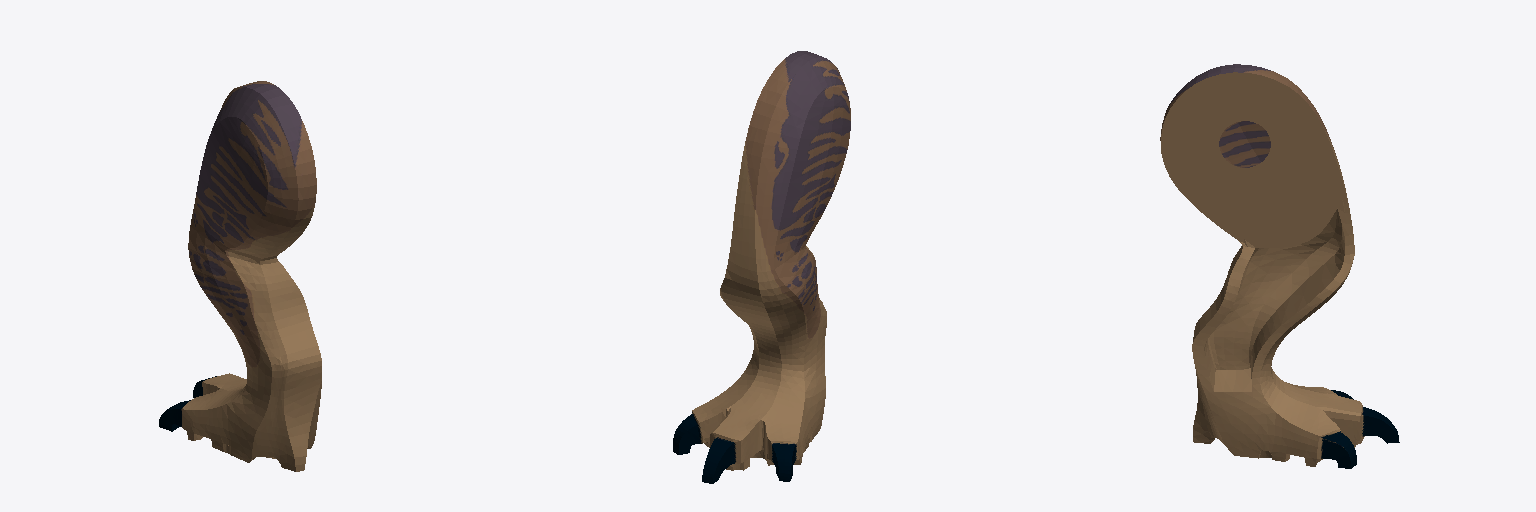
3 renders of one model, left to right at view 1: azimuth 30°, elevation 25°; view 2: azimuth 150°, elevation 25°; view 3: azimuth 270°, elevation 25°, orthographic.
Parts seen in each view (by area): view 1: PataIzq:PataIzq_polySurface7; view 2: PataIzq:PataIzq_polySurface7; view 3: PataIzq:PataIzq_polySurface7.
Part boxes in pixels (left/top/right/bottom): PataIzq:PataIzq_polySurface7: left=159, top=81, right=321, bottom=471; PataIzq:PataIzq_polySurface7: left=673, top=51, right=850, bottom=483; PataIzq:PataIzq_polySurface7: left=1160, top=64, right=1399, bottom=468.
Size of the model in its own units: 2.45 by 7.19 by 4.23.
Materials: 1 (1 with a texture image).